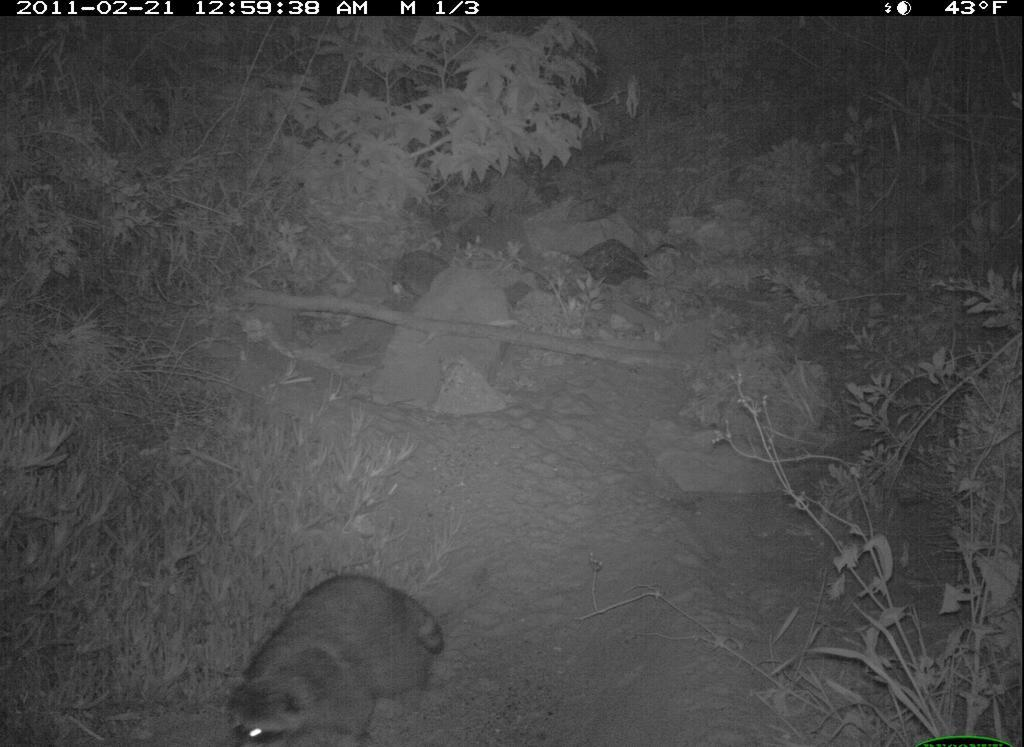raccoon: (221, 561, 456, 744)
